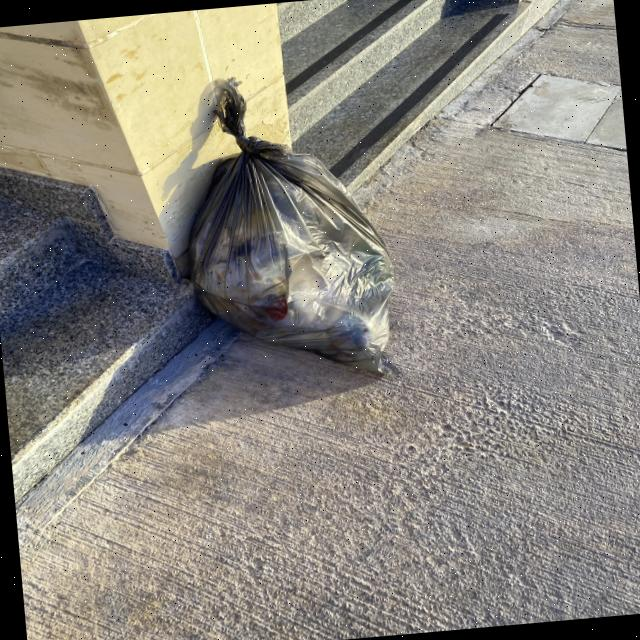Mixed Waste: (165, 62, 409, 392)
